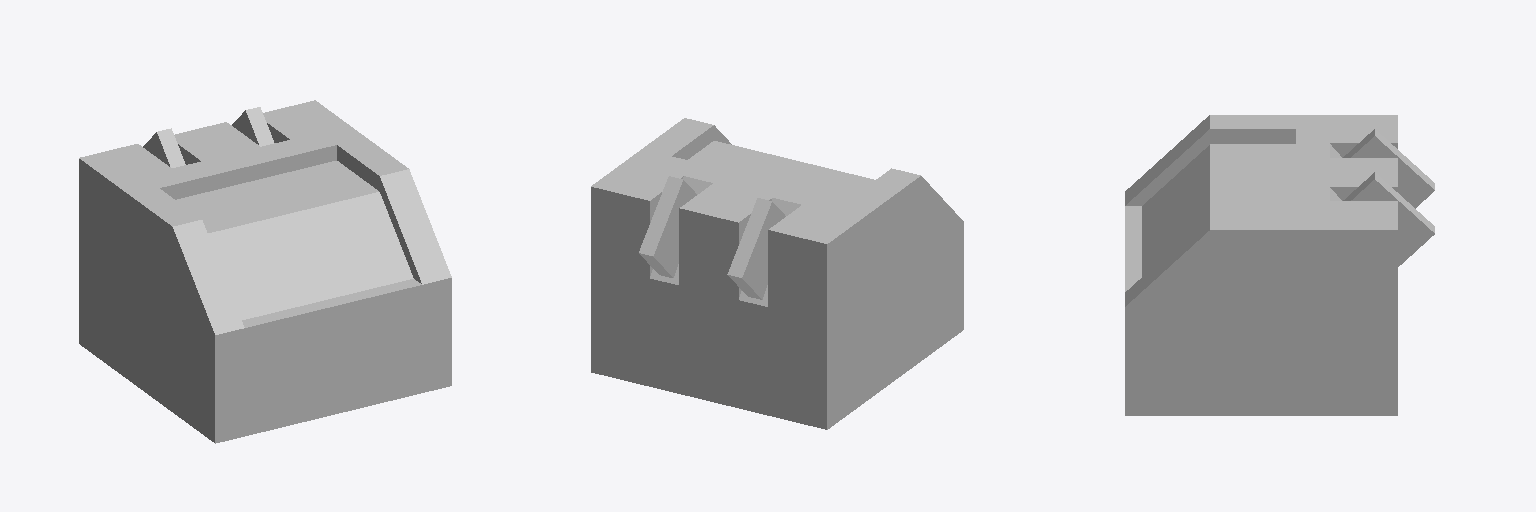
Rendered from ruined_machine_screen.obj.
3 views of the same model, side by side, from view 1: azimuth 30°, elevation 25°; view 2: azimuth 150°, elevation 25°; view 3: azimuth 270°, elevation 25° (orthographic).
Parts seen in each view (by area): view 1: RuinedMachine1, discW, discE; view 2: RuinedMachine1, discW, discE; view 3: RuinedMachine1, discE, discW.
Boxes of the visible parts, x1=… form: RuinedMachine1: x1=79, y1=100, x2=451, y2=443; discW: x1=143, y1=128, x2=185, y2=167; discE: x1=232, y1=107, x2=273, y2=146; RuinedMachine1: x1=591, y1=118, x2=963, y2=429; discW: x1=727, y1=198, x2=785, y2=299; discE: x1=639, y1=176, x2=696, y2=277; RuinedMachine1: x1=1125, y1=115, x2=1397, y2=415; discE: x1=1343, y1=172, x2=1434, y2=266; discW: x1=1343, y1=129, x2=1434, y2=208.
Bounding box in the file's own units: 1 × 0.8239 × 1.14.